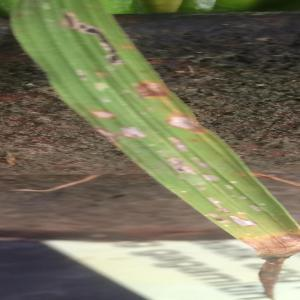1 RiceBlast: (126, 69, 193, 109), (78, 94, 126, 132), (161, 105, 210, 139), (121, 123, 157, 154)
